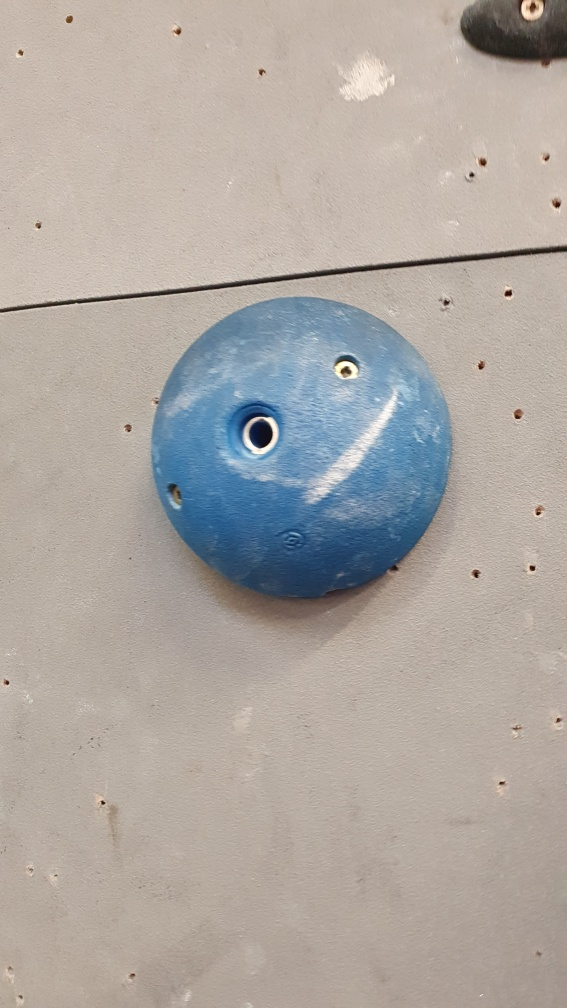Sloper: (148, 294, 456, 616)
